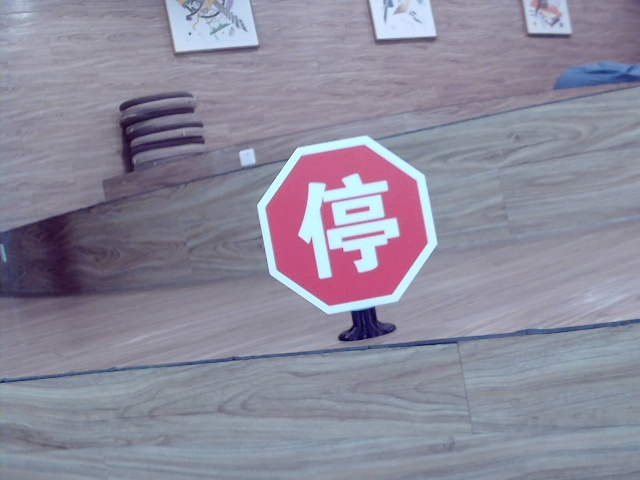stop: (291, 175, 404, 279)
